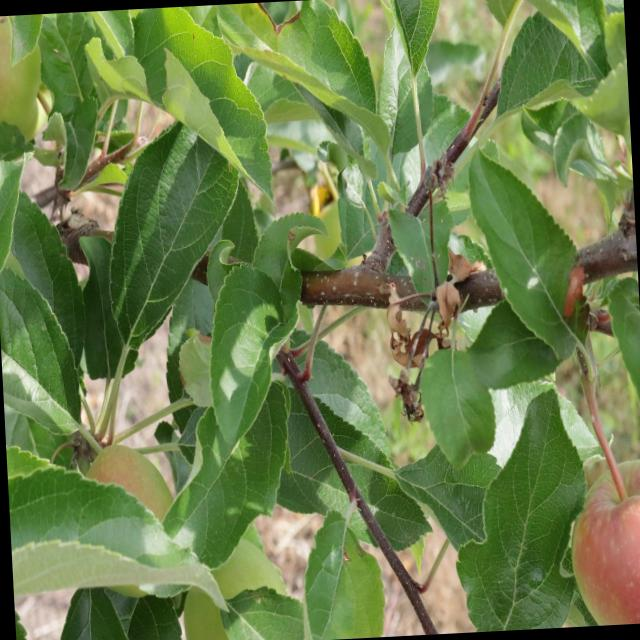-FireBlight-: (388, 247, 477, 421)
